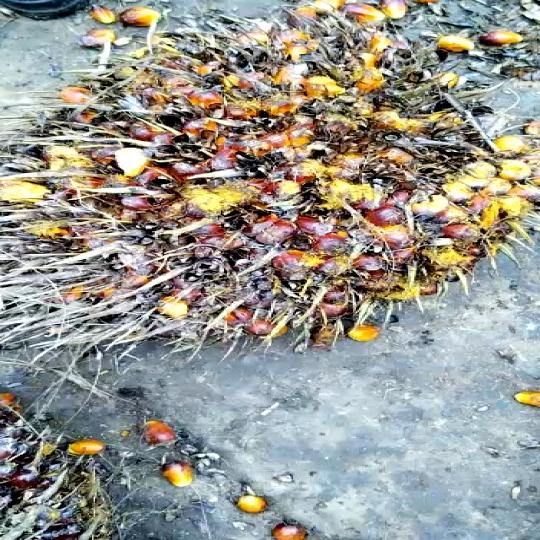terlalu masak: (0, 9, 540, 373)
